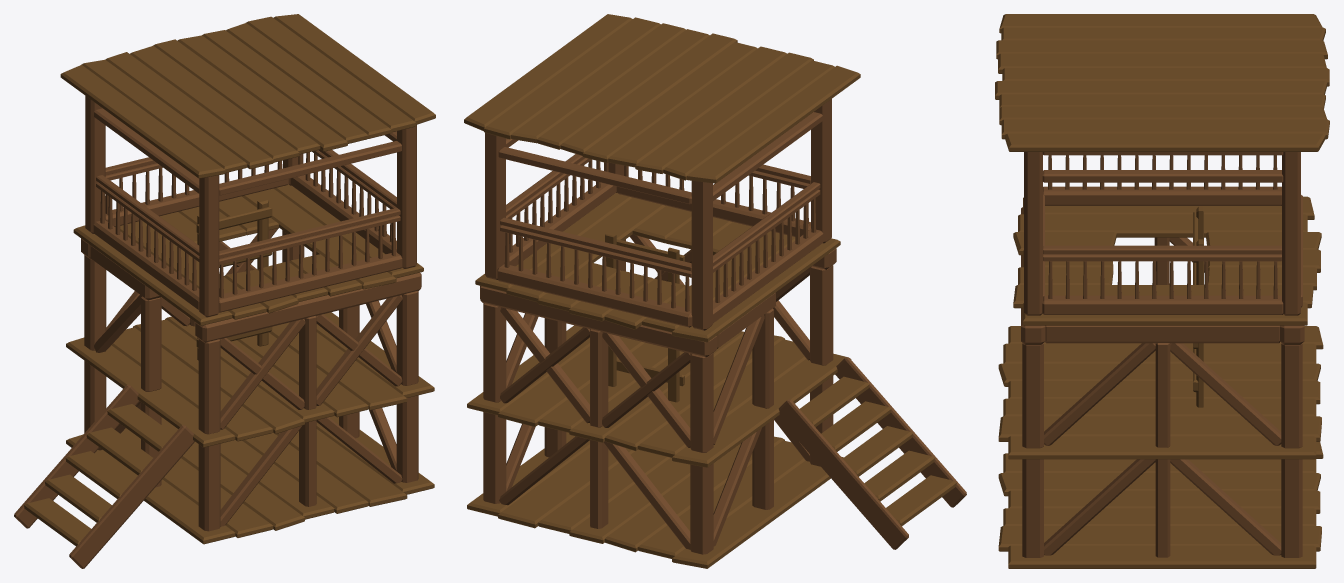
Rendered from farmstractures_04.gltf.
3 renders of one model, left to right at view 1: azimuth 30°, elevation 25°; view 2: azimuth 150°, elevation 25°; view 3: azimuth 270°, elevation 25°, orthographic. The views are drawn at different scales.
Parts seen in each view (by area): view 1: body, blades; view 2: body, blades; view 3: body, blades.
Part boxes in pixels (bbox=[...]): body: bbox=[14, 111, 435, 568]; blades: bbox=[60, 14, 432, 342]; body: bbox=[464, 114, 966, 568]; blades: bbox=[467, 14, 860, 357]; body: bbox=[995, 14, 1329, 568]; blades: bbox=[995, 14, 1329, 343].
Size of the model in its own units: 5.29 by 5.42 by 3.82.
Materials: 1 (1 with a texture image).
